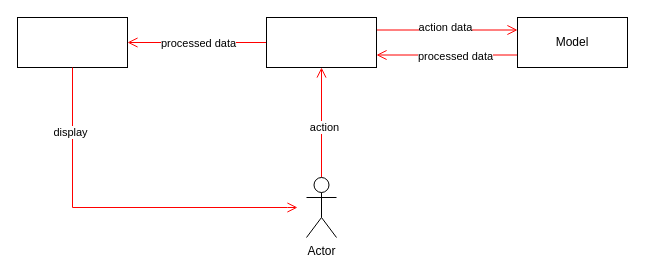
Some shapes in this 645 by 276 pixel diagram are drawn without their labels. Here are the shapes that lost their labels. From the top down, the centre of each, then its label:
At (72,42): "View".
At (321,42): "Controller".
